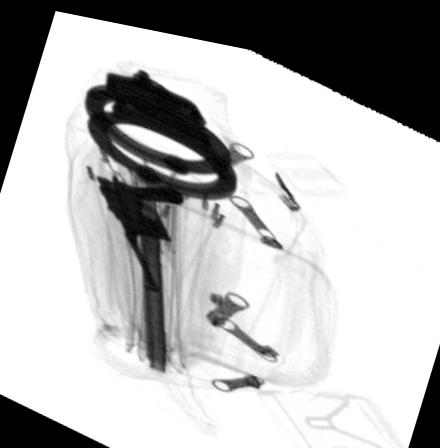Gun: (93, 171, 188, 287)
HandCuffs: (81, 60, 242, 194)
